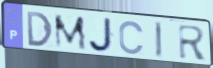C: (118, 19, 146, 56)
D: (25, 10, 55, 48)
I: (153, 20, 164, 60)
J: (88, 16, 116, 54)
M: (53, 14, 89, 51)
R: (177, 24, 209, 62)
